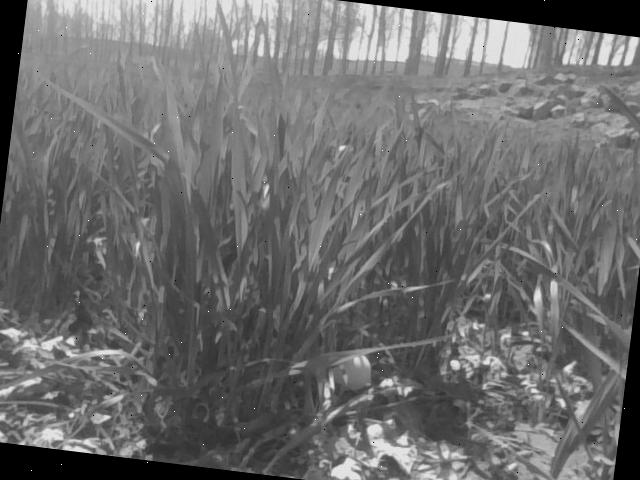ball: (334, 354, 369, 392)
